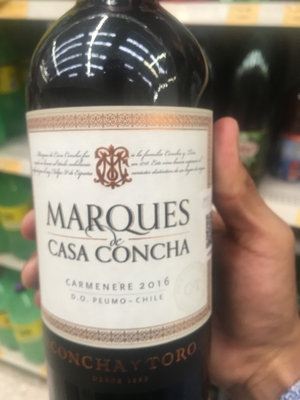marques de casa concha carmenere: (22, 4, 229, 386)
